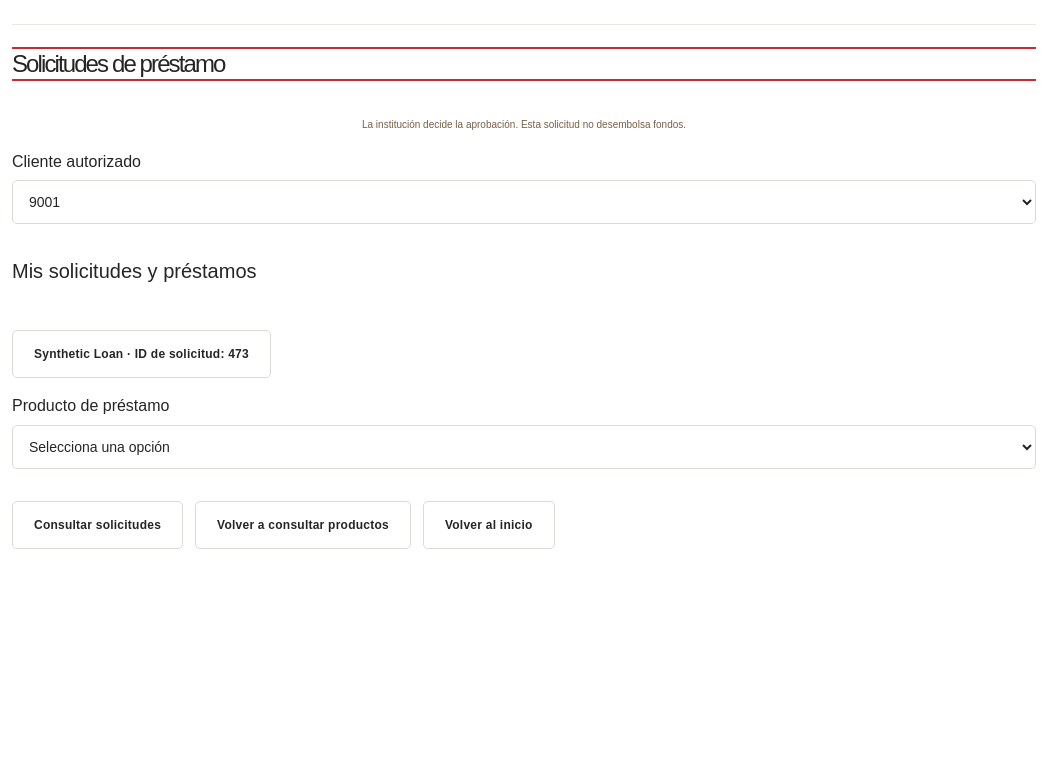
Test: shows a safe unsupported-product message without enabling submission
Select "Synthetic Loan" in the dropdown labelled "Producto de préstamo" at (524, 447), box [12,425,1036,469]
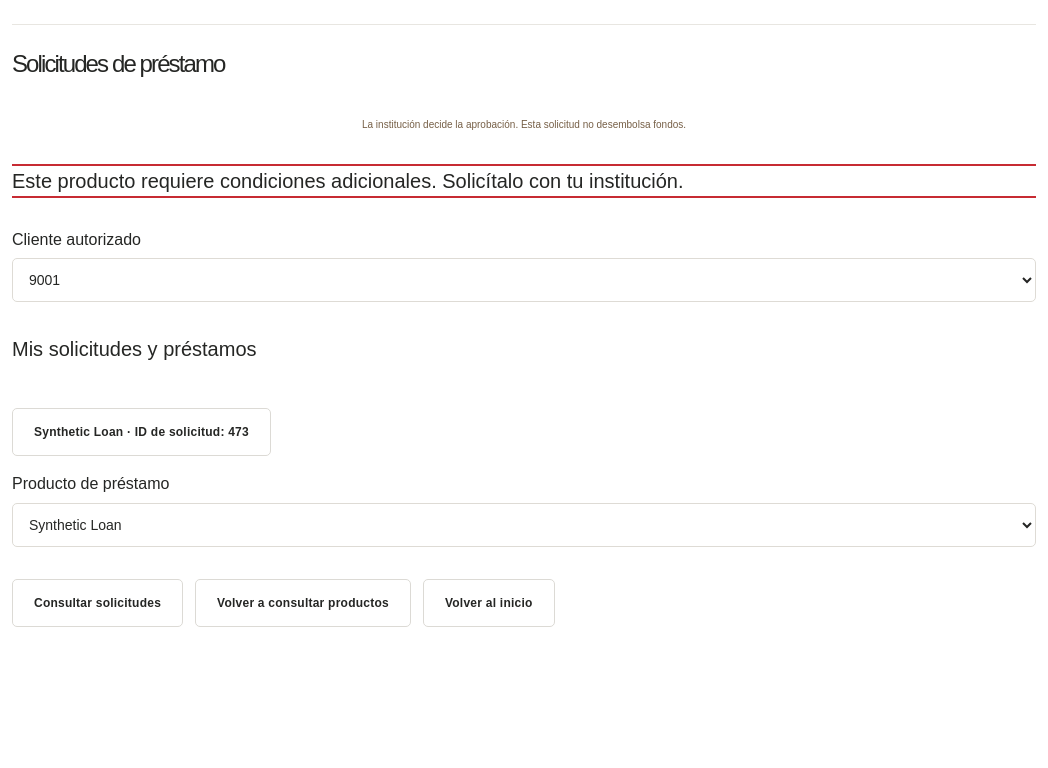
Now the heading "Este producto requiere condiciones adicionales. Solicítalo con tu institución." is shown, box [12,170,684,192]
